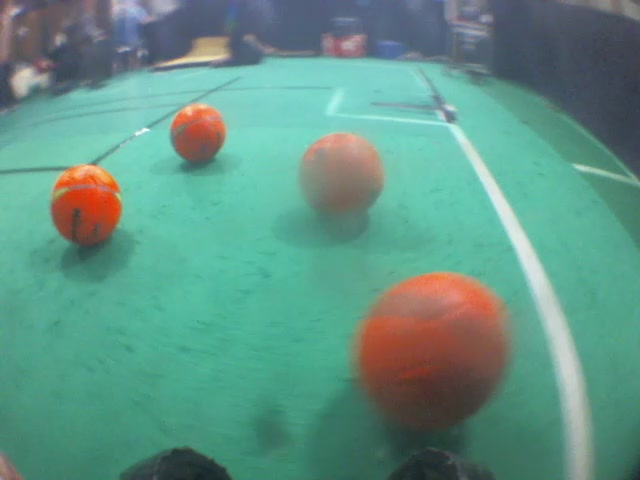ball: (348, 267, 522, 443), (293, 128, 387, 230), (46, 160, 125, 257), (164, 102, 231, 165)
